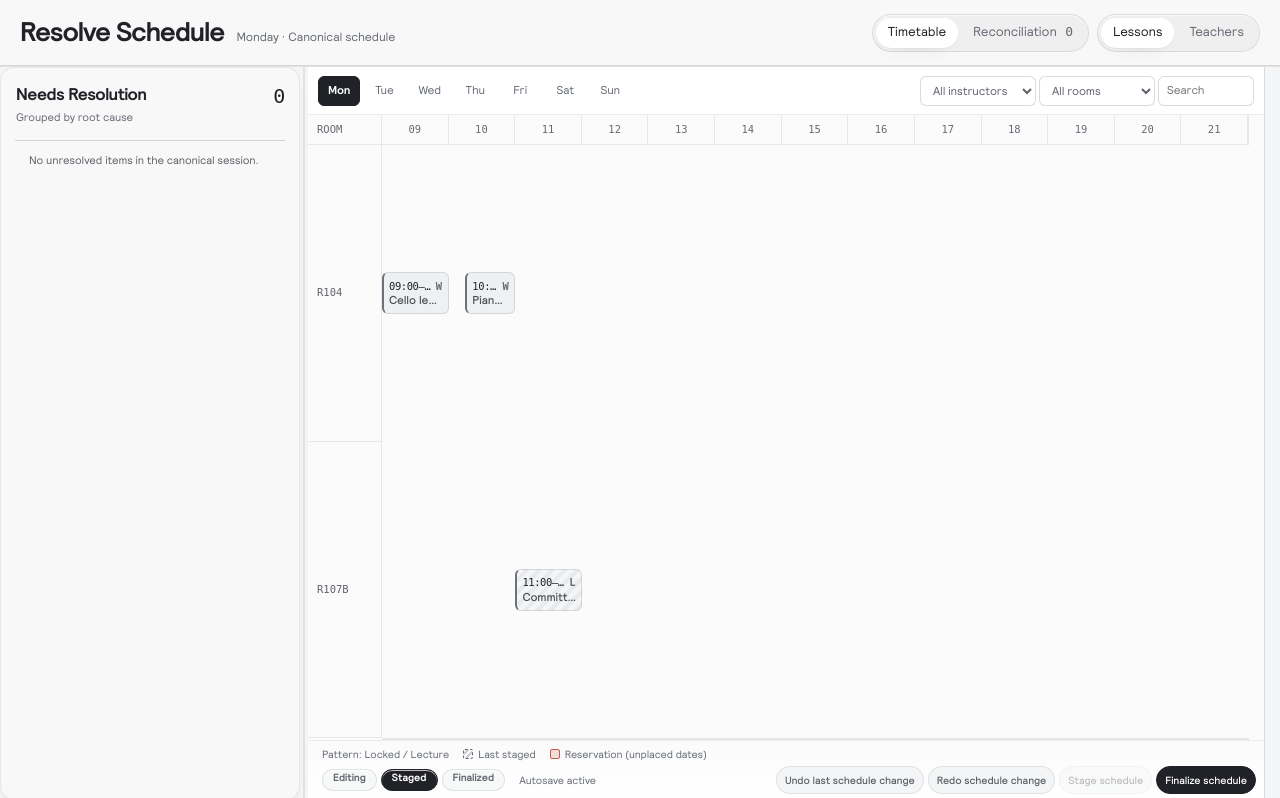
Test: schedule editing interactions › keeps the original position and focuses a persistent server error after rejection
Click the button "09:00–10:00 W Cello lesson" at (415, 293), box [382, 272, 449, 314]
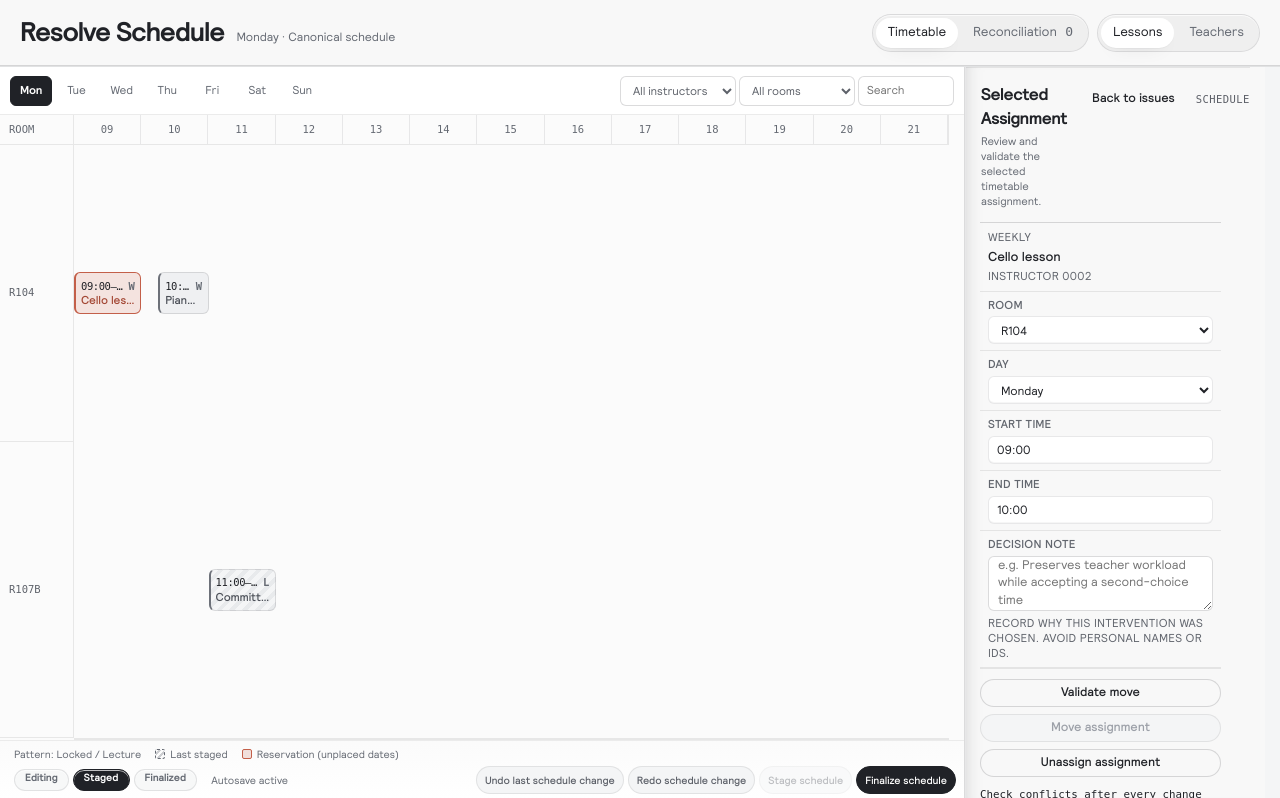
Now the field labelled "Start time" is shown, box [988, 436, 1213, 464]
Select "R107B" in the dropdown labelled "Room" at (1100, 330), box [988, 316, 1213, 344]
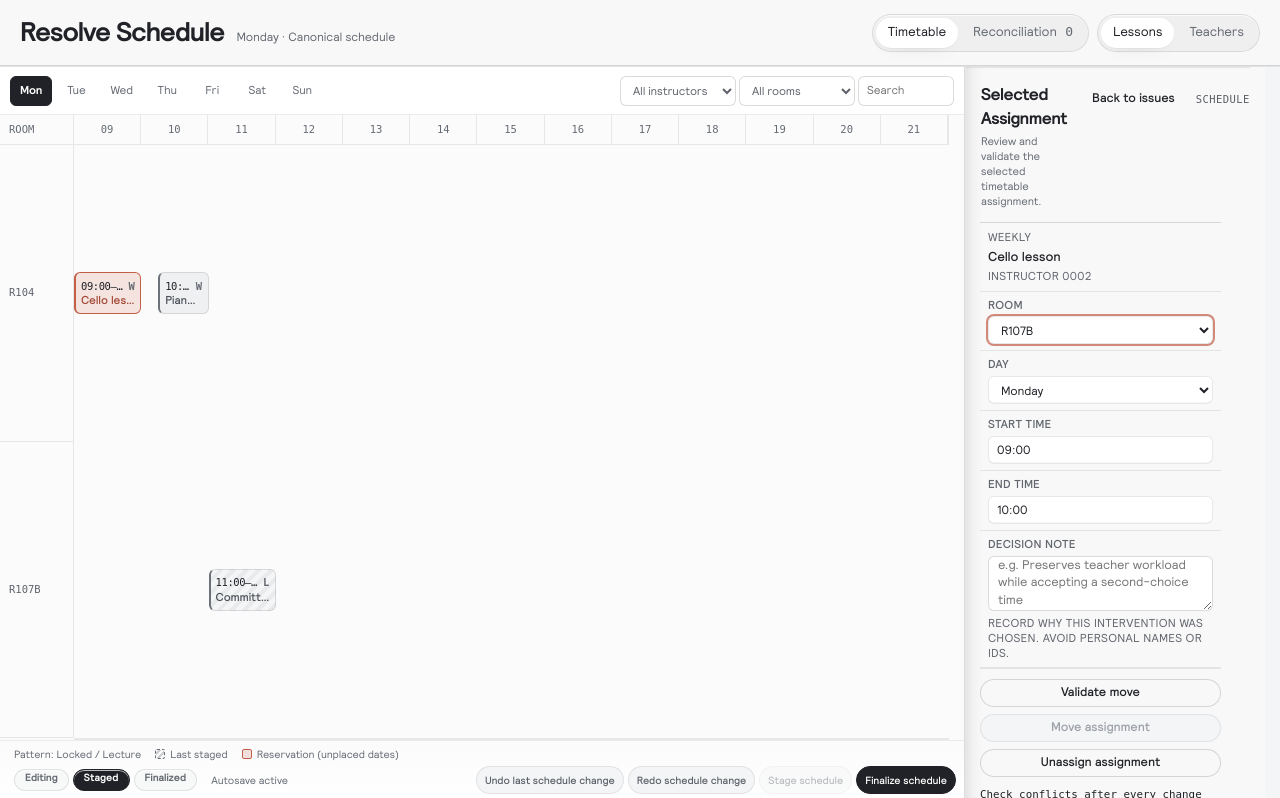
Click the button "Validate move" at (1100, 693), box [980, 679, 1221, 707]
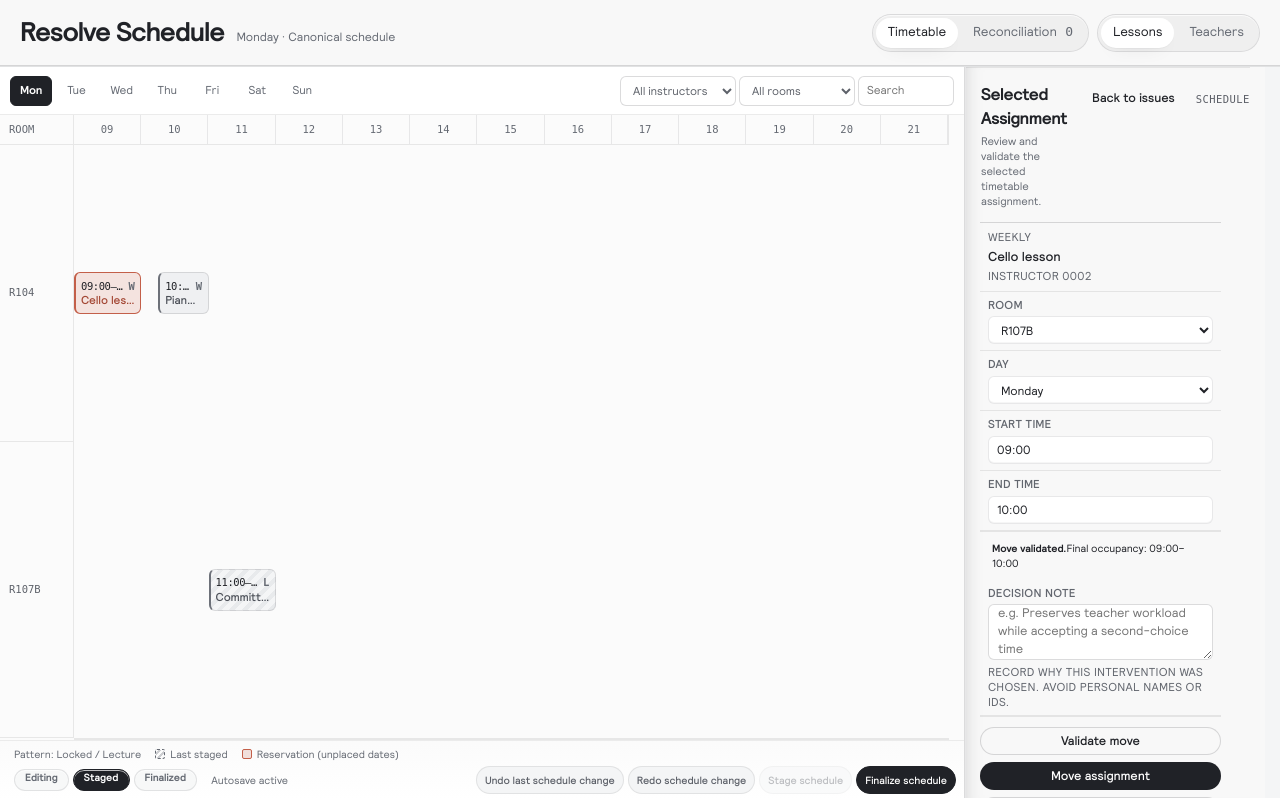
Now the button "Move assignment" is enabled
Click the button "Move assignment" at (1100, 776), box [980, 762, 1221, 790]
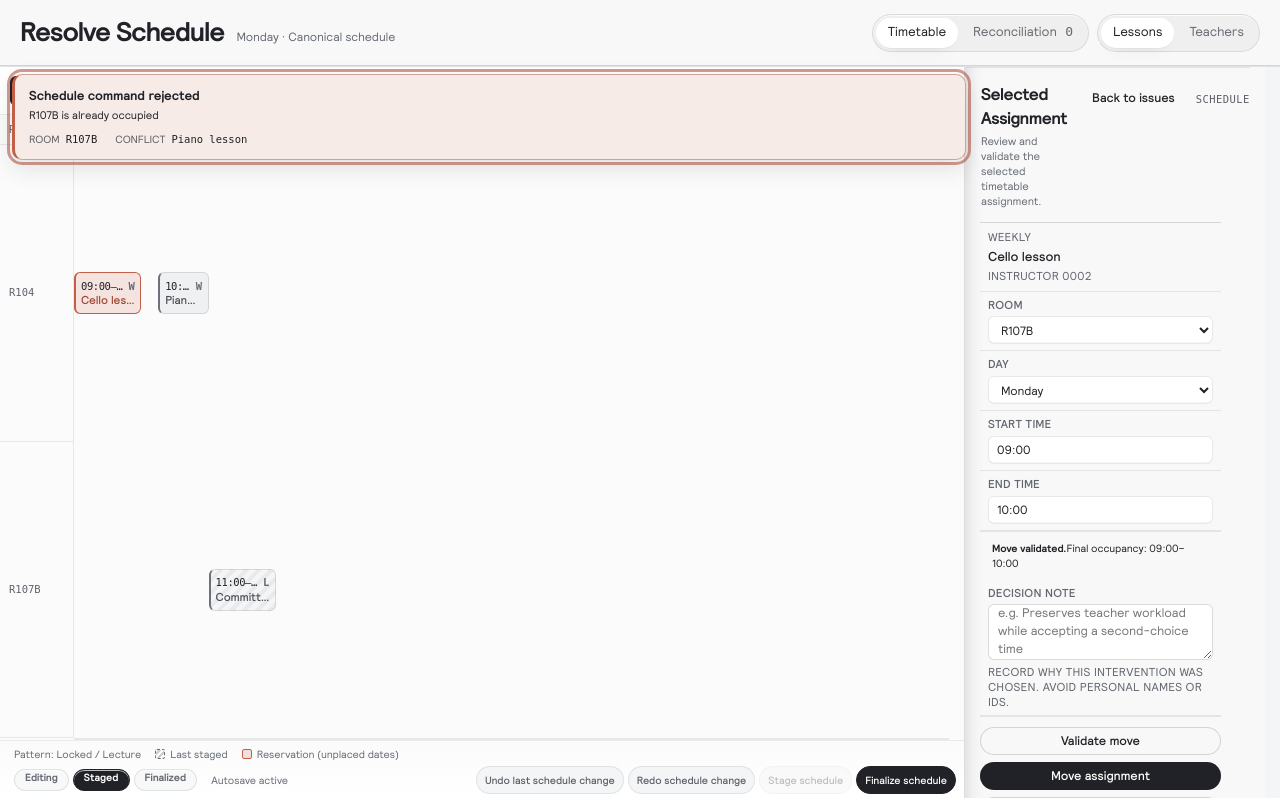
Now the message that starts with "Schedule command rejected" shows "R107B is already occupied", box [29, 110, 159, 122]
Now the message that starts with "Schedule command rejected" shows "Piano lesson", box [171, 133, 247, 145]
